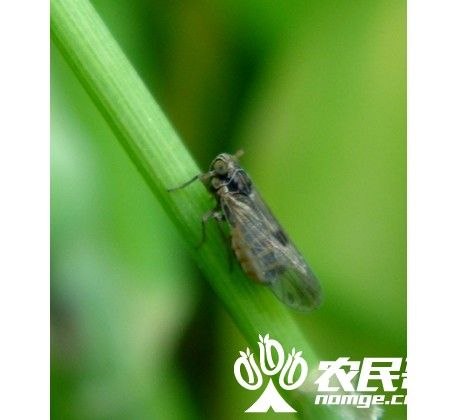Delphacidae: (166, 149, 321, 311)
